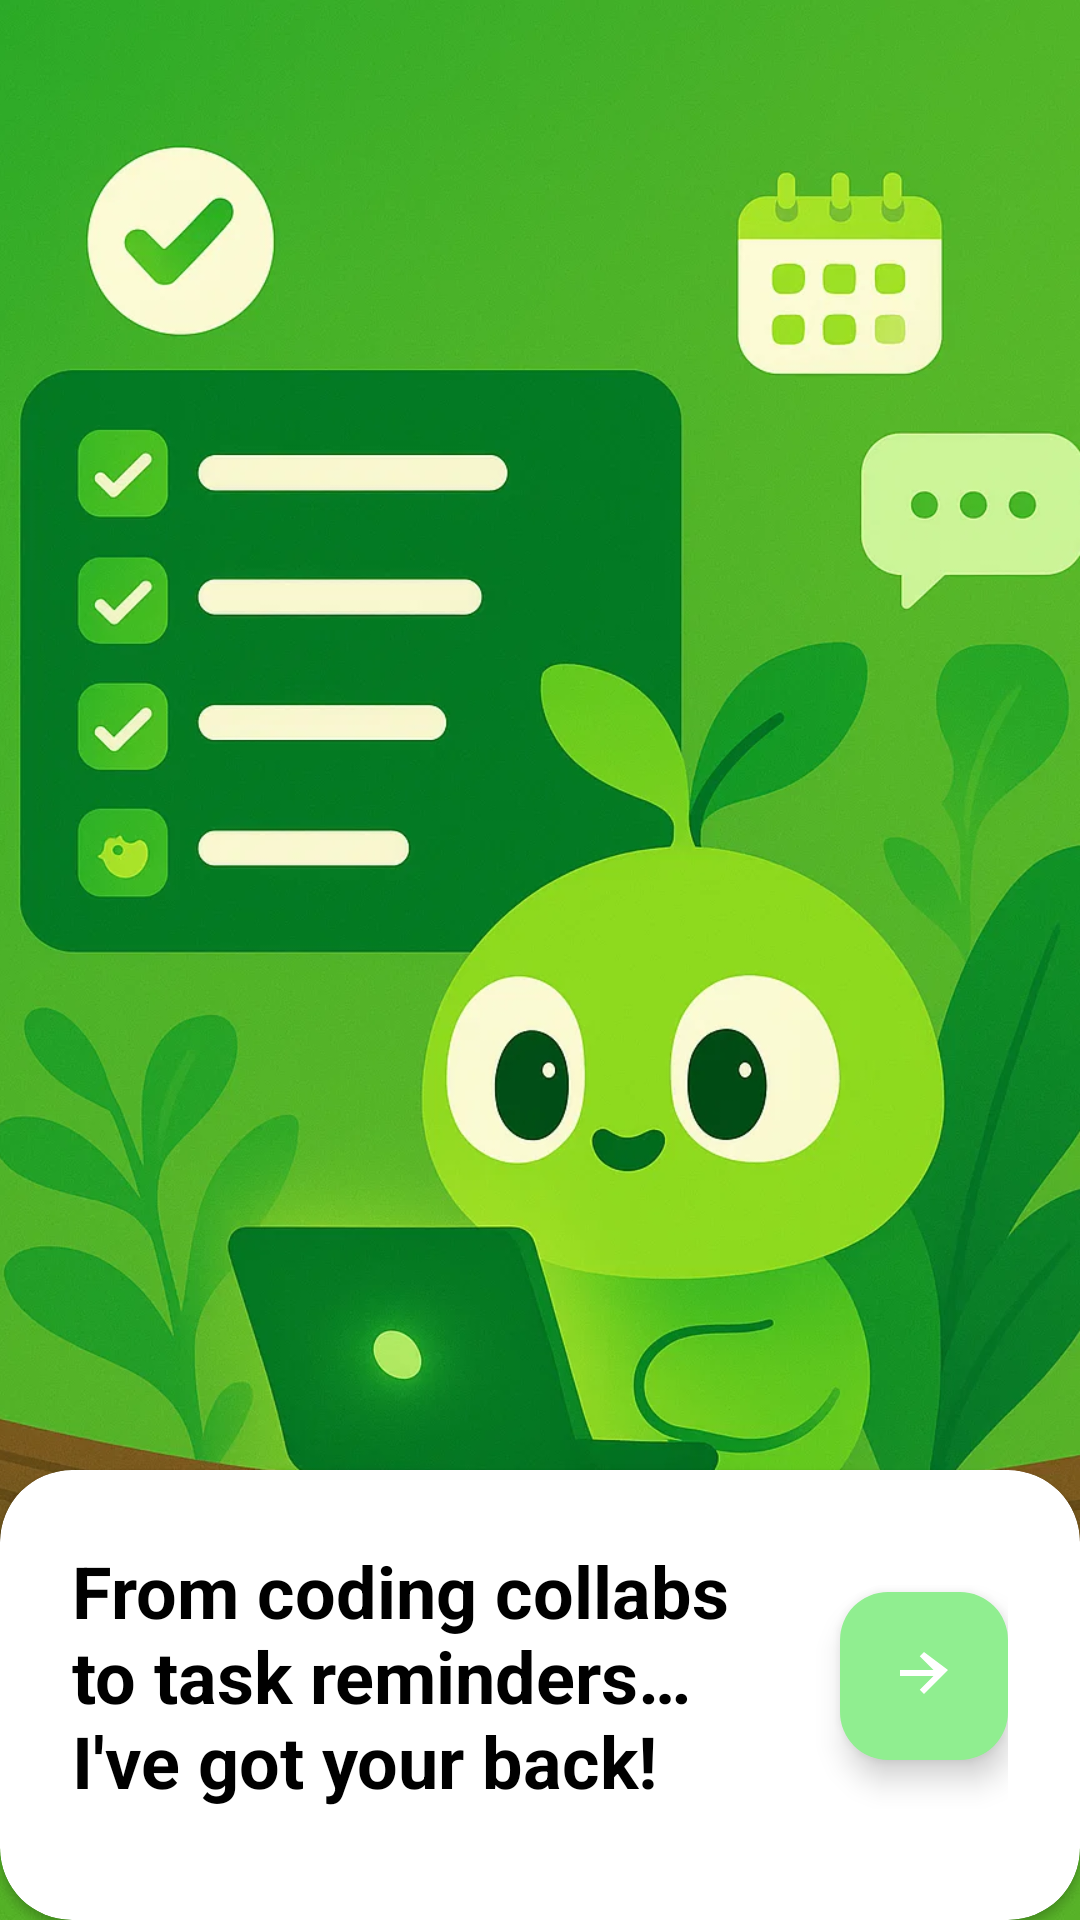

Icons on this 1080w x 1920h Android screen, each with the point to tap as (x=x, y=y):
Next: (x=924, y=1676)
